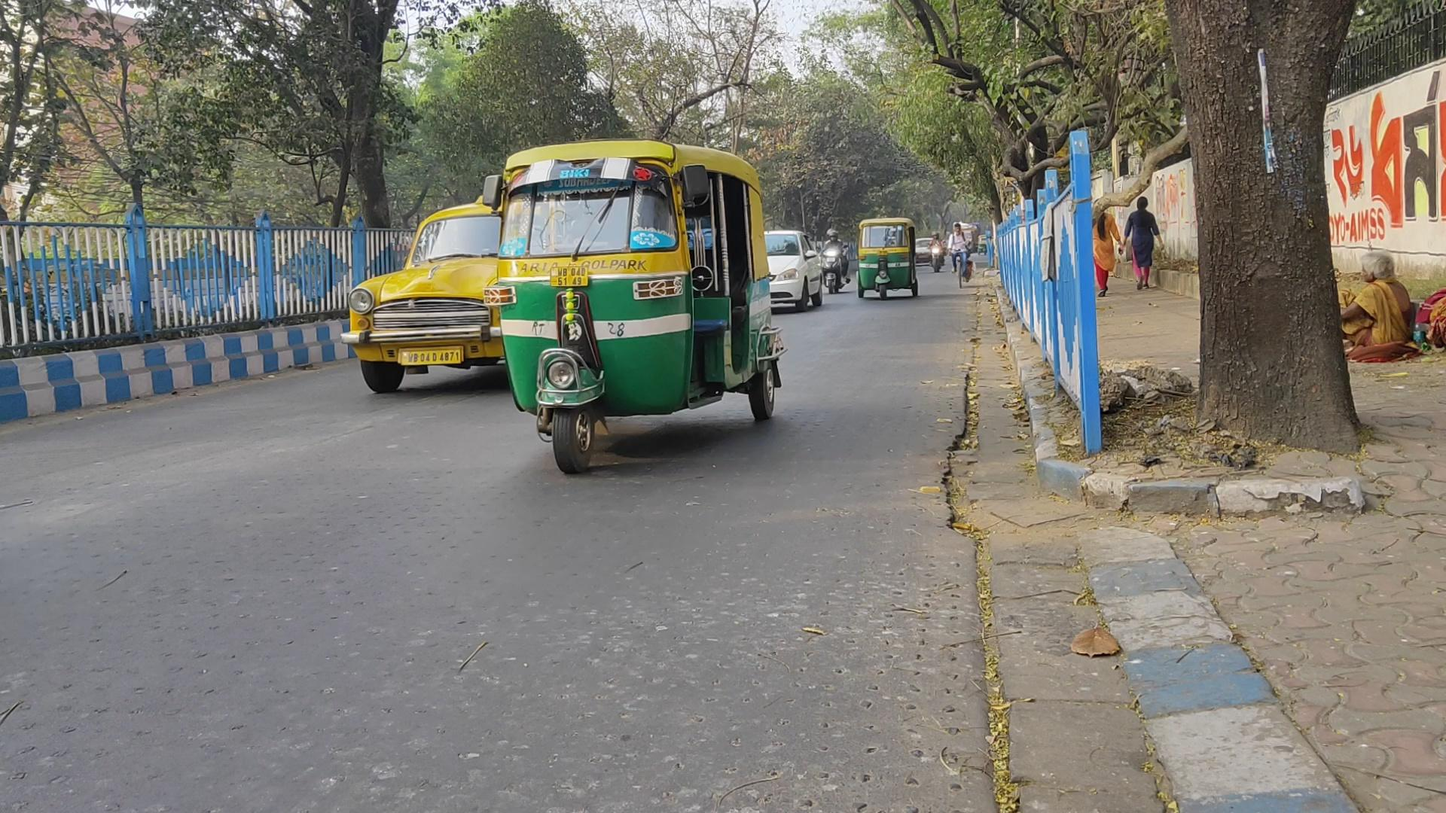Auto: (486, 139, 785, 476), (856, 217, 921, 301)
bike: (816, 227, 850, 296), (948, 222, 972, 290), (929, 230, 947, 273)
car: (342, 193, 505, 394), (764, 227, 825, 312)
